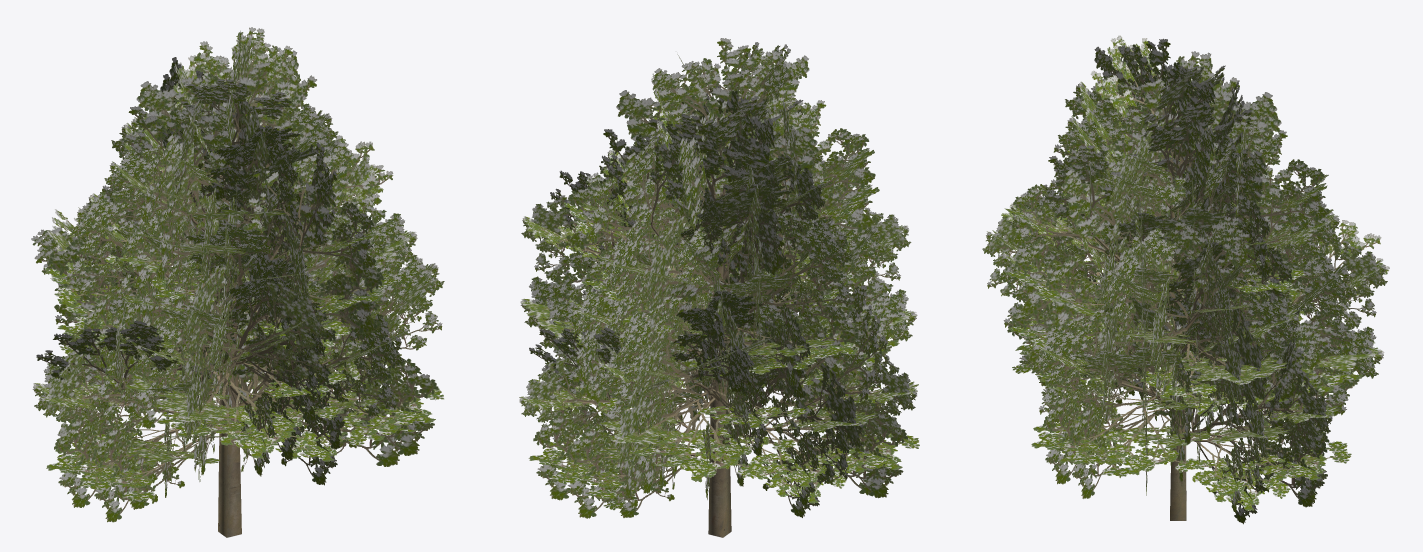
Rendered from MagnoliaGrandiflora.glb.
3 renders of one model, left to right at view 1: azimuth 30°, elevation 25°; view 2: azimuth 150°, elevation 25°; view 3: azimuth 270°, elevation 25°, orthographic. The views are drawn at different scales.
Visible parts, largest first — view 1: Southern_Magnolia__Realistic_LOD3; view 2: Southern_Magnolia__Realistic_LOD3; view 3: Southern_Magnolia__Realistic_LOD3.
Part boxes in pixels (x1,y1,x2,y2): Southern_Magnolia__Realistic_LOD3: [31, 27, 444, 537]; Southern_Magnolia__Realistic_LOD3: [519, 38, 919, 537]; Southern_Magnolia__Realistic_LOD3: [982, 35, 1389, 524].
Bounding box in the file's own units: 16.82 × 20.89 × 16.93.
1 material, 1 textured.
